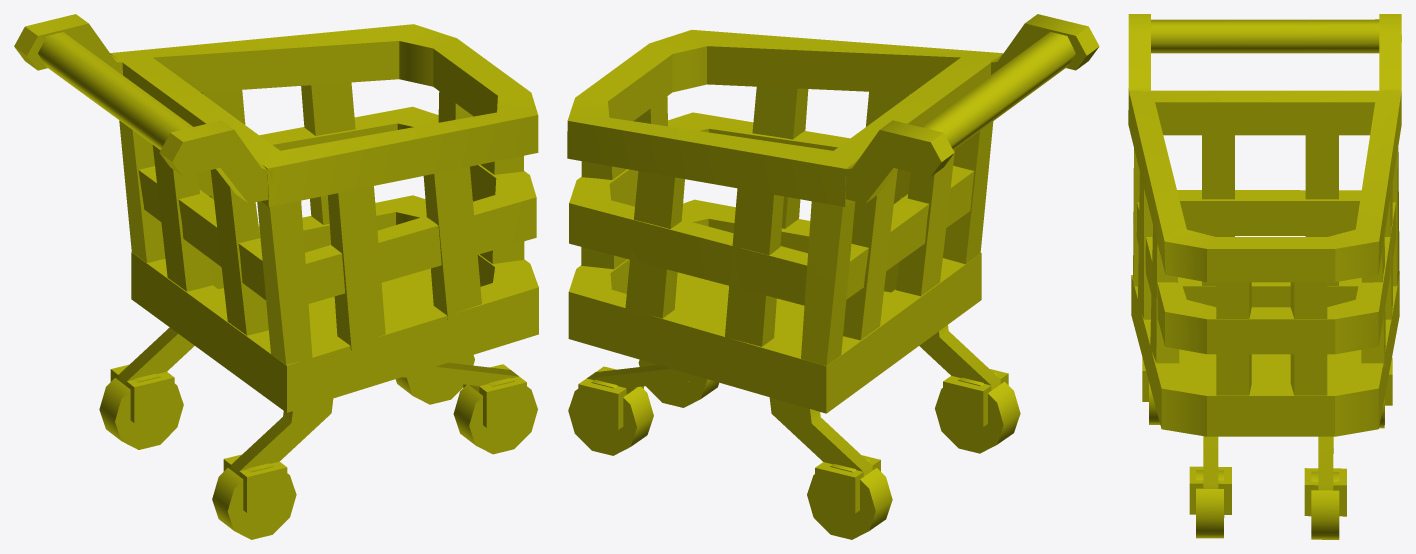
File: market_trolley.glb
3 views of the same model, side by side, from view 1: azimuth 30°, elevation 25°; view 2: azimuth 150°, elevation 25°; view 3: azimuth 270°, elevation 25° (orthographic). The views are drawn at different scales.
Parts seen in each view (by area): view 1: market_trolley; view 2: market_trolley; view 3: market_trolley.
Boxes of the visible parts, x1,y1,x2,y2 form: market_trolley: (14, 14, 538, 539); market_trolley: (567, 14, 1099, 539); market_trolley: (1128, 14, 1401, 539).
Size of the model in its own units: 0.8663 by 0.8617 by 0.5807.
1 material, 1 textured.
